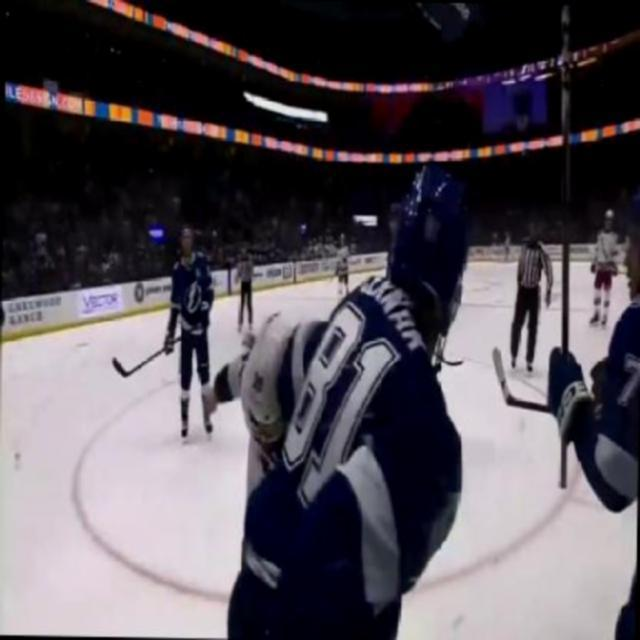fight: (192, 160, 474, 638)
non-fight: (157, 225, 220, 438), (503, 212, 554, 374), (582, 198, 618, 330)
